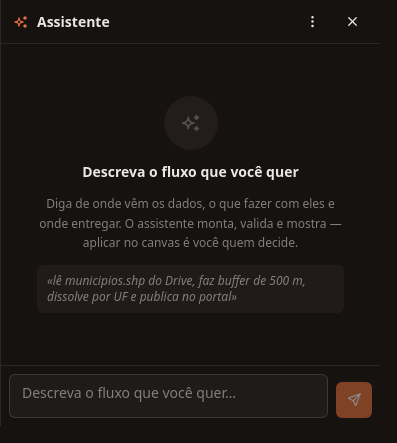
it: gaveta do assistente › falha na rota vira um erro na conversa, e não uma tela quebrada
The width and height of the screenshot is (397, 443).
Type "oi" into the text box named "Mensagem para o assistente" at (168,396), box x1=9 y1=374 x2=328 y2=418
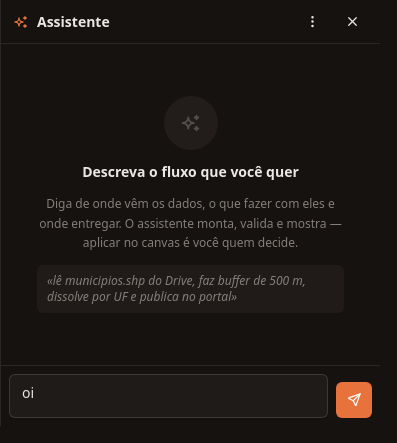
Submit the form named "Mensagem para o assistente", box x1=1 y1=364 x2=380 y2=426
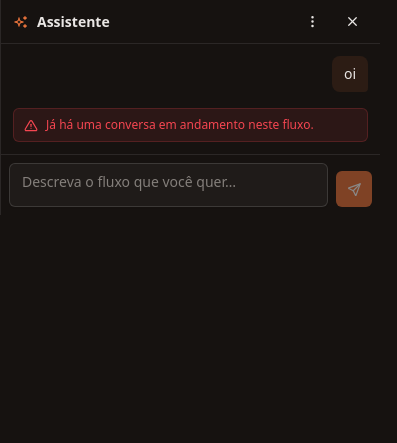
expect the text "Já há uma conversa em andamento neste fluxo." is shown: met, box x1=46 y1=117 x2=314 y2=133
